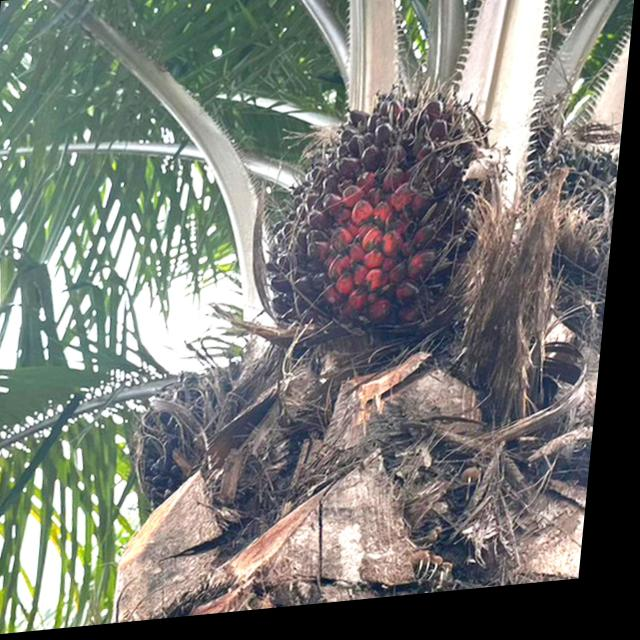ripe: (261, 73, 518, 347), (140, 368, 244, 509), (528, 137, 626, 240)
